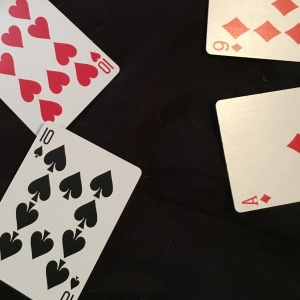card: (216, 87, 299, 213)
